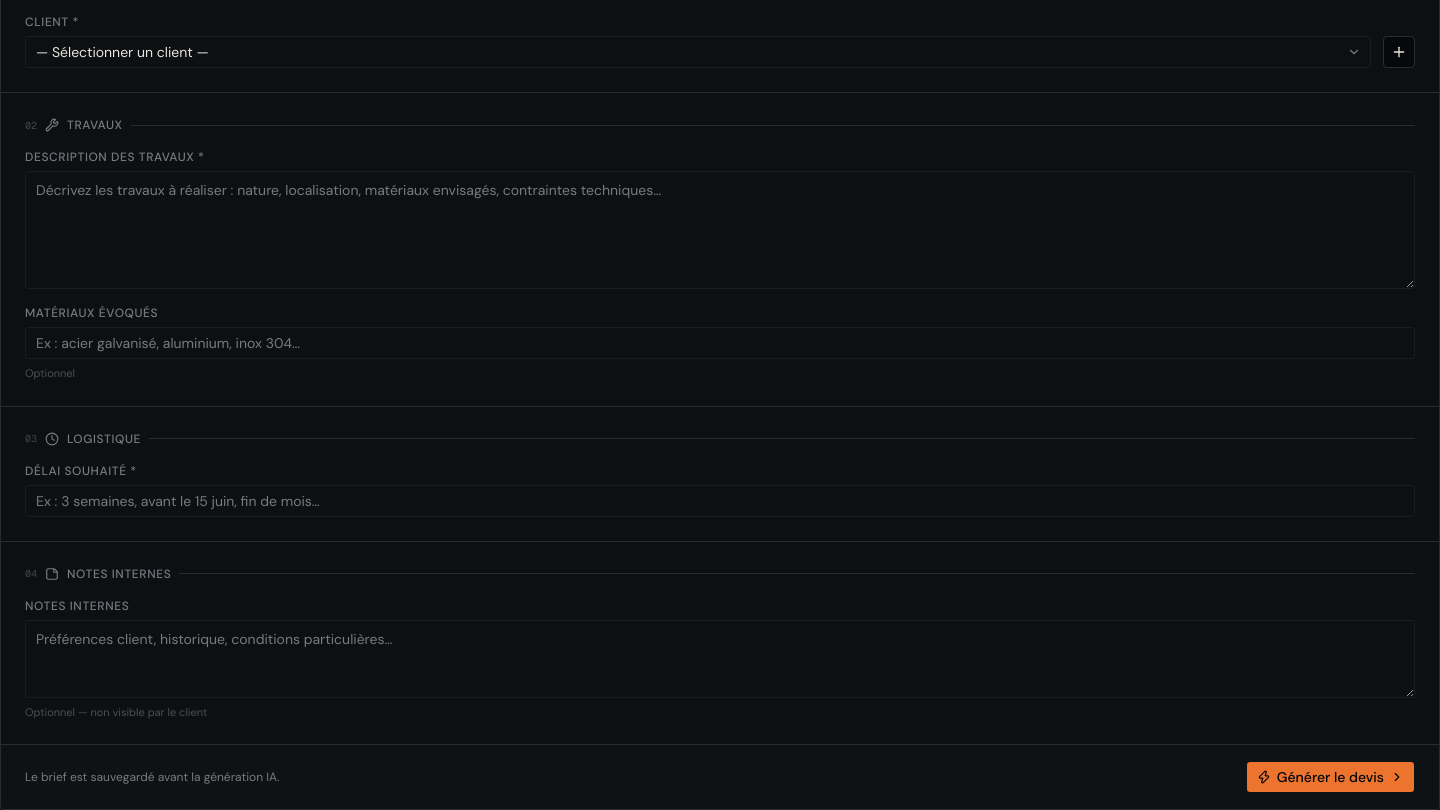
Scenario: QuoteRequestForm › shows validation errors on empty submit
The image size is (1440, 810).
(page scrolled)
Click the button "Générer le devis": [1330, 777] box top-left (1246, 761), bottom-right (1415, 793)
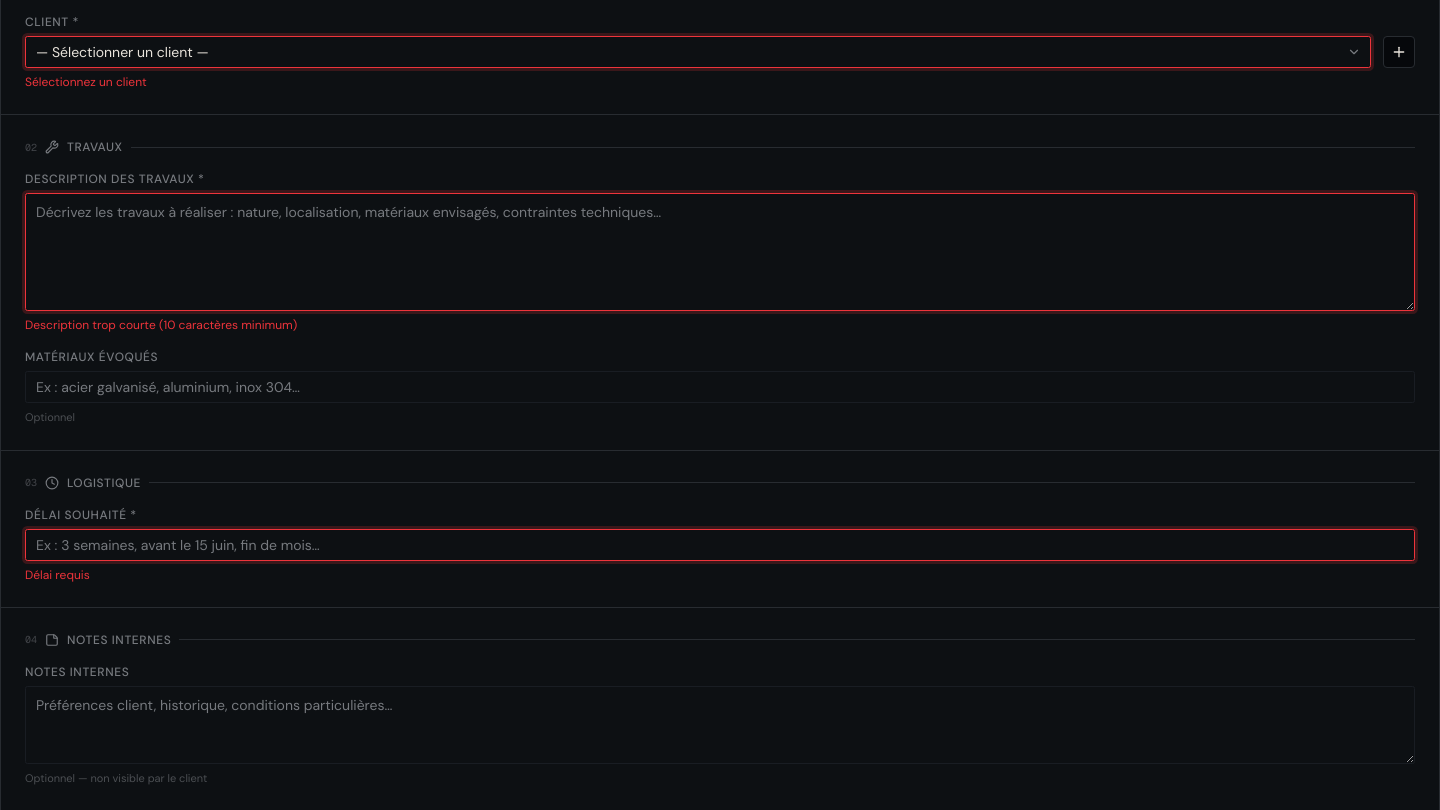
expect the text "Sélectionnez un client" is shown: met, box top-left (25, 74), bottom-right (147, 90)
expect the text "Description trop courte (10 caractères minimum)" is shown: met, box top-left (25, 317), bottom-right (297, 333)
expect the text "Délai requis" is shown: met, box top-left (25, 566), bottom-right (90, 582)
